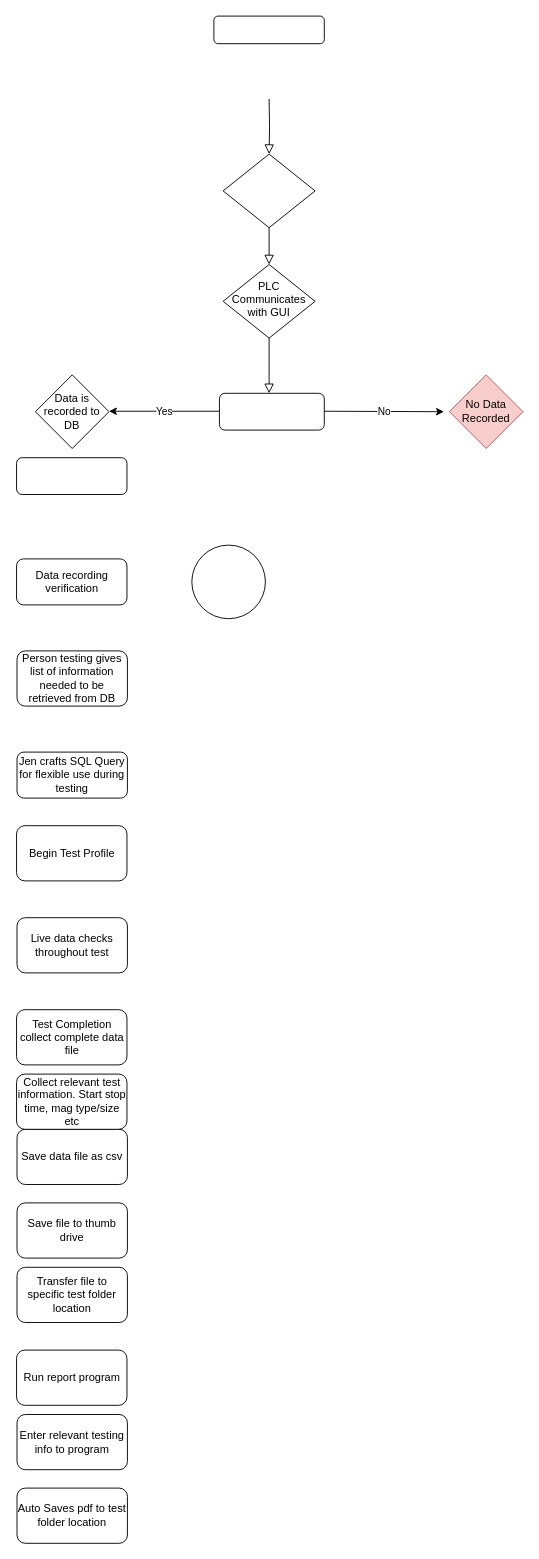
Image size: 539x1559. Some labels were removed from this diagram. Each missing label, with the centre of its shape:
Check data coming in/DB save limit not near: (x=228, y=581)
Is GUI running?: (x=271, y=411)
Recorded by PLC: (x=268, y=190)
Request is made for specific data retrieval: (x=71, y=475)
Sensor Read: (x=268, y=29)
